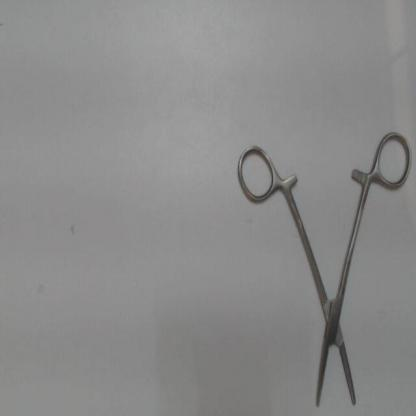Mayo Needle Holder: (230, 127, 416, 414)
